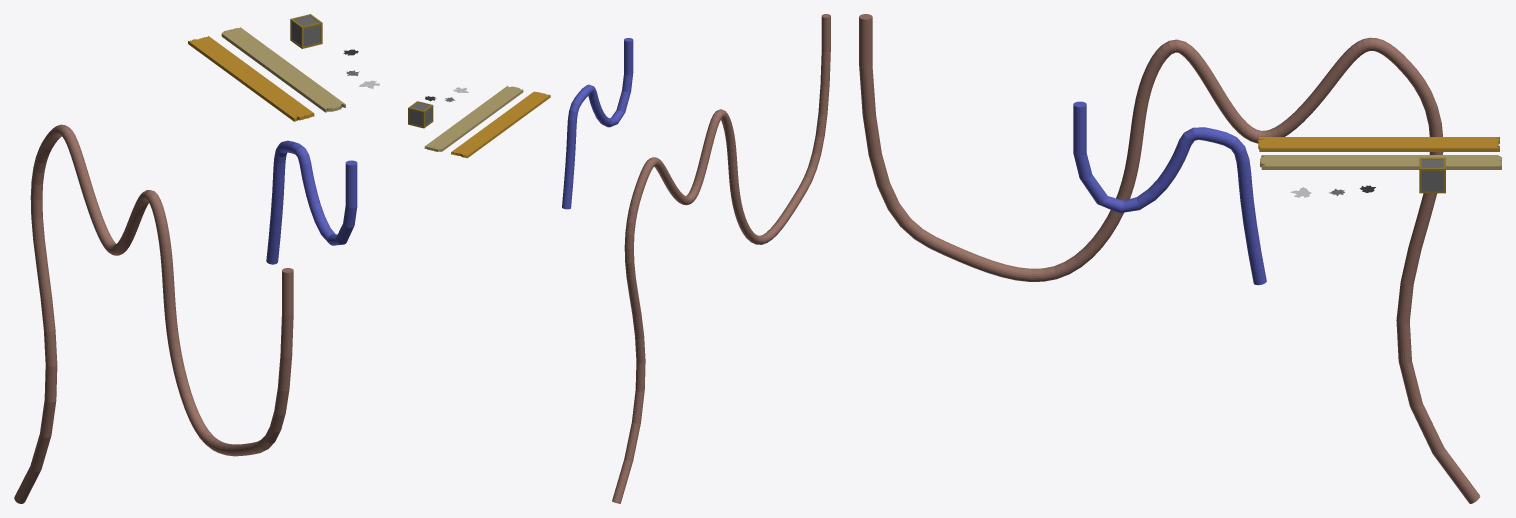
The model's file is MiscProps_SeamMarked.fbx.
3 renders of one model, left to right at view 1: azimuth 30°, elevation 25°; view 2: azimuth 150°, elevation 25°; view 3: azimuth 270°, elevation 25°, orthographic. The views are drawn at different scales.
Parts seen in each view (by area): view 1: Wire_V2.001, Wire_V1.001, Wooden_Plank_V1, Wooden_Plank_V2, Crate; view 2: Wire_V2.001, Wire_V1.001, Wooden_Plank_V1, Wooden_Plank_V2, Crate; view 3: Wire_V2.001, Wire_V1.001, Wooden_Plank_V1, Wooden_Plank_V2, Crate.
Part boxes in pixels (box(x1,y1,x2,y2)): Wire_V2.001: box(14, 124, 293, 503); Wire_V1.001: box(266, 140, 357, 264); Wooden_Plank_V1: box(188, 36, 314, 121); Wooden_Plank_V2: box(221, 27, 345, 112); Crate: box(290, 14, 322, 48); Wire_V2.001: box(612, 14, 830, 503); Wire_V1.001: box(562, 38, 633, 209); Wooden_Plank_V1: box(451, 91, 550, 158); Wooden_Plank_V2: box(424, 85, 523, 151); Crate: box(408, 101, 433, 128); Wire_V2.001: box(859, 14, 1480, 503); Wire_V1.001: box(1073, 101, 1266, 285); Wooden_Plank_V1: box(1258, 137, 1499, 151); Wooden_Plank_V2: box(1260, 155, 1501, 169); Crate: box(1419, 157, 1445, 193).
Size of the model in its own units: 1395 by 1933 by 2306.
